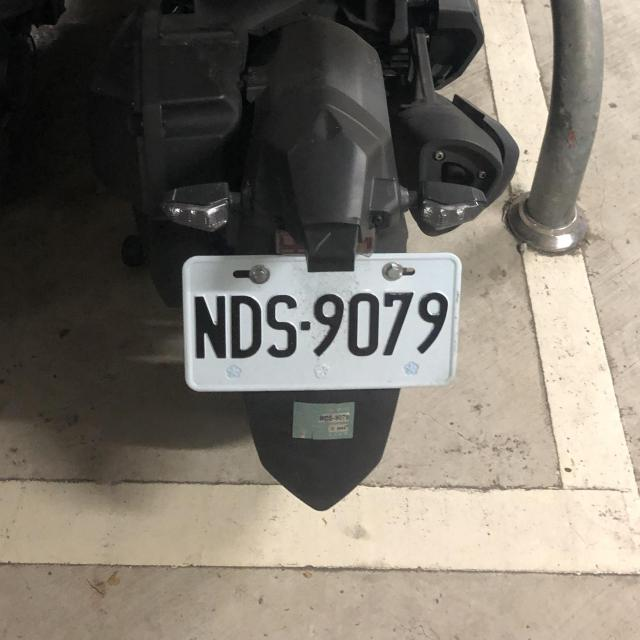W: (176, 243, 463, 398)
